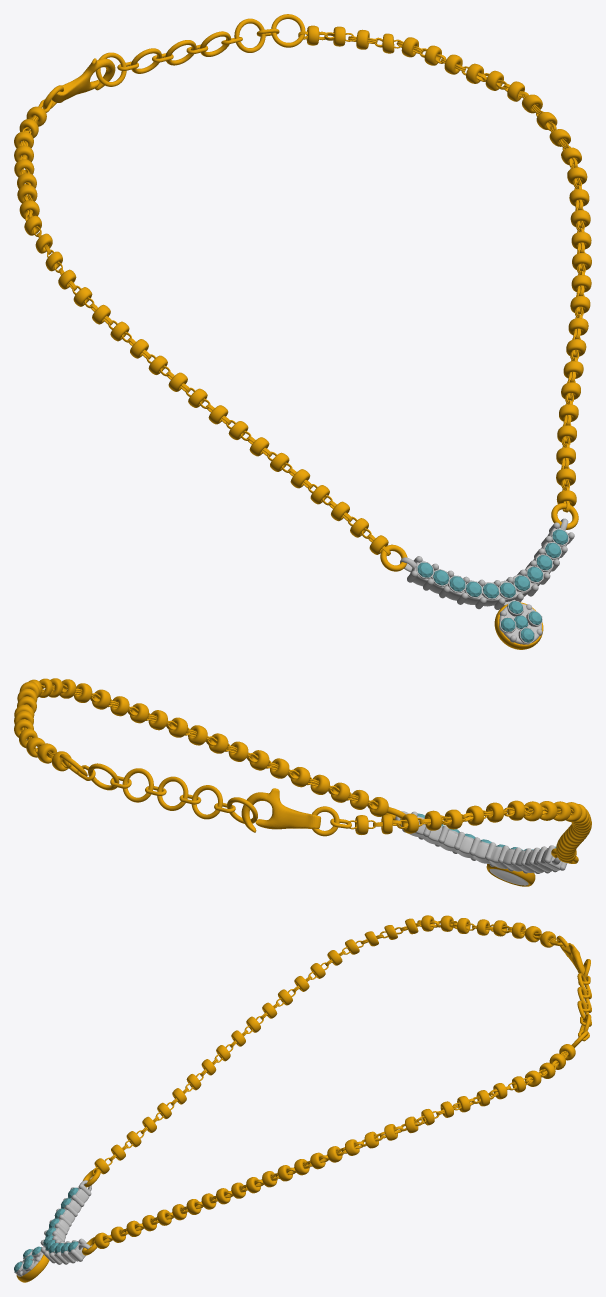
File: Necklace_03.glb
The picture shows the model from 3 angles, top to bottom: view 1: azimuth 30°, elevation 25°; view 2: azimuth 150°, elevation 25°; view 3: azimuth 270°, elevation 25°; orthographic projection. The views are drawn at different scales.
Parts seen in each view (by area): view 1: Pendant_0; view 2: Pendant_0; view 3: Pendant_0.
Boxes of the visible parts, x1=… form: Pendant_0: x1=14, y1=14, x2=591, y2=649; Pendant_0: x1=14, y1=678, x2=591, y2=886; Pendant_0: x1=14, y1=915, x2=591, y2=1282.
Bounding box in the file's own units: 0.7857 × 0.5266 × 0.9239.
